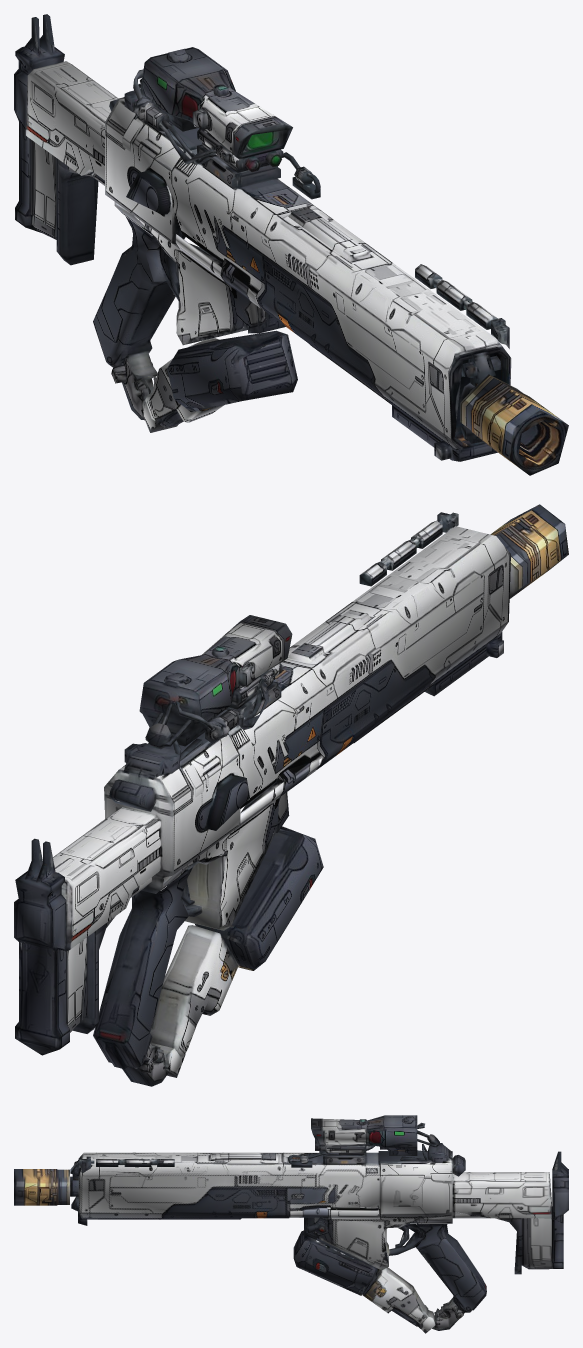
3 views of the same model, one above another, from view 1: azimuth 30°, elevation 25°; view 2: azimuth 150°, elevation 25°; view 3: azimuth 270°, elevation 25° (orthographic). The views are drawn at different scales.
Parts seen in each view (by area): view 1: gun; view 2: gun; view 3: gun.
Boxes of the visible parts, x1,y1,x2,y2 form: gun: [14, 14, 568, 475]; gun: [14, 504, 568, 1086]; gun: [14, 1115, 568, 1333].
Bounding box in the file's own units: 0.7044 × 2.65 × 6.3.
1 material, 1 textured.
